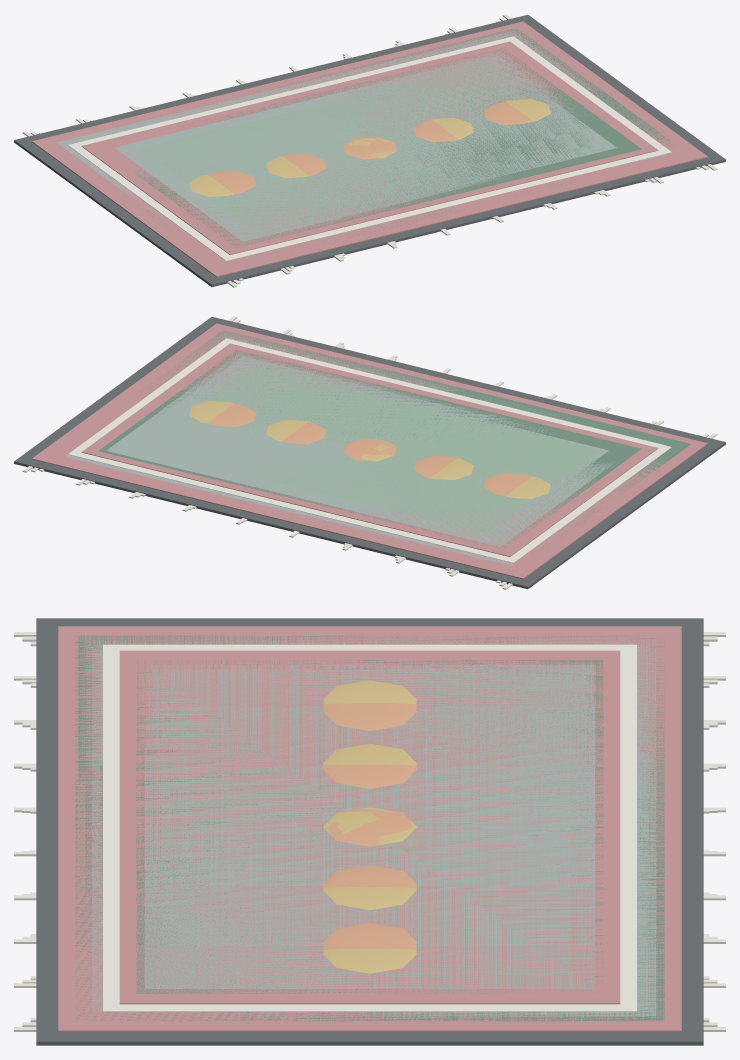
The model's file is Gear18.fbx.
3 views of the same model, one above another, from view 1: azimuth 30°, elevation 25°; view 2: azimuth 150°, elevation 25°; view 3: azimuth 270°, elevation 25° (orthographic). The views are drawn at different scales.
Visible parts, largest first — view 1: Gear18_V6_Fabric, Gear18_V10_Rose, Gear18_V3_Sage, Gear18_V8_SageDark, Gear18_V9_Rose, Gear18_V10_Charcoal, Gear18_V5_Fabric, Gear18_V10_Linen, Gear18_V7_Fabric, Gear18_V10_Brass, Gear18_V6_Apricot, Gear18_V9_Linen (+3 smaller); view 2: Gear18_V3_Sage, Gear18_V10_Rose, Gear18_V6_Fabric, Gear18_V7_Fabric, Gear18_V10_Charcoal, Gear18_V8_SageDark, Gear18_V9_Rose, Gear18_V10_Linen, Gear18_V10_Brass, Gear18_V6_Apricot, Gear18_V4_Fabric, Gear18_V5_Fabric (+2 smaller); view 3: Gear18_V10_Rose, Gear18_V7_Fabric, Gear18_V10_Charcoal, Gear18_V4_Fabric, Gear18_V8_SageDark, Gear18_V10_Linen, Gear18_V6_Fabric, Gear18_V5_Fabric, Gear18_V9_Rose, Gear18_V3_Sage, Gear18_V9_Linen, Gear18_V9_Charcoal (+6 smaller).
Part boxes in pixels (x1,y1,x2,y2): Gear18_V6_Fabric: (115,35,580,241); Gear18_V10_Rose: (32,21,707,277); Gear18_V3_Sage: (139,64,557,231); Gear18_V8_SageDark: (112,28,676,268); Gear18_V9_Rose: (82,24,699,272); Gear18_V10_Charcoal: (14,14,725,287); Gear18_V5_Fabric: (73,37,666,236); Gear18_V10_Linen: (22,14,717,287); Gear18_V7_Fabric: (57,31,610,244); Gear18_V10_Brass: (189,99,550,196); Gear18_V6_Apricot: (214,103,525,192); Gear18_V9_Linen: (31,17,708,284); Gear18_V3_Sage: (166,366,600,533); Gear18_V10_Rose: (32,323,707,579); Gear18_V6_Fabric: (65,336,602,565); Gear18_V7_Fabric: (106,335,650,551); Gear18_V10_Charcoal: (14,316,725,589); Gear18_V8_SageDark: (98,330,690,571); Gear18_V9_Rose: (90,328,699,574); Gear18_V10_Linen: (22,316,717,589); Gear18_V10_Brass: (189,401,550,498); Gear18_V6_Apricot: (214,405,525,494); Gear18_V4_Fabric: (174,363,608,534); Gear18_V5_Fabric: (198,340,666,561); Gear18_V10_Rose: (58,626,681,1031); Gear18_V7_Fabric: (84,640,656,1016); Gear18_V10_Charcoal: (36,618,703,1045); Gear18_V4_Fabric: (170,679,570,974); Gear18_V8_SageDark: (75,635,664,1021); Gear18_V10_Linen: (14,632,725,1031); Gear18_V6_Fabric: (92,645,647,1011); Gear18_V5_Fabric: (100,649,639,1006); Gear18_V9_Rose: (67,631,672,1025); Gear18_V3_Sage: (178,683,561,969); Gear18_V9_Linen: (22,636,717,1026); Gear18_V9_Charcoal: (45,623,695,1036).
Size of the model in its own units: 180 by 1.6 by 128.
